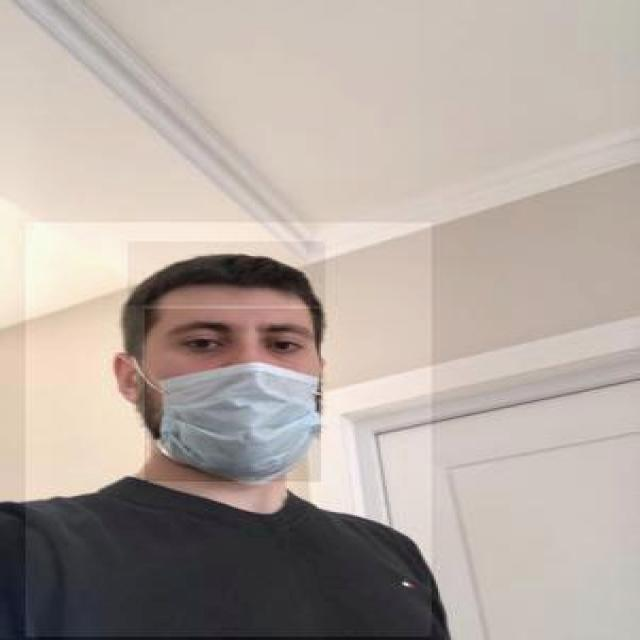face_mask: (145, 308, 321, 482)
head_nohelmet: (128, 242, 325, 306)
person: (26, 222, 433, 638)
